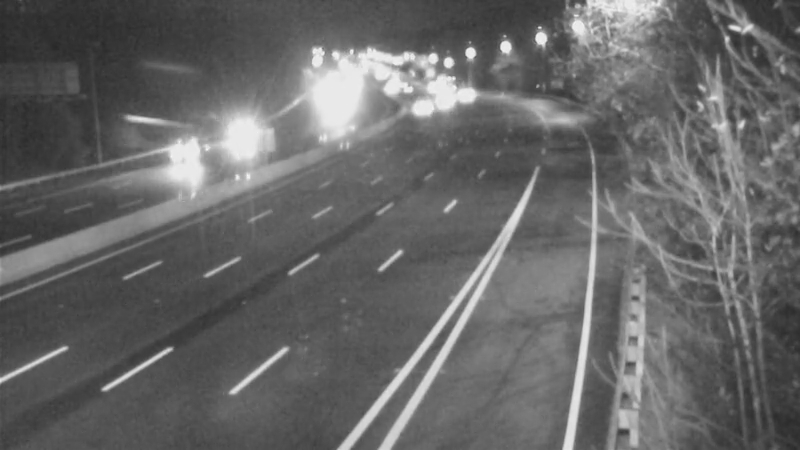vehicle: (130, 118, 210, 198), (441, 71, 491, 121), (419, 71, 469, 121), (398, 77, 448, 127), (211, 110, 261, 160)
